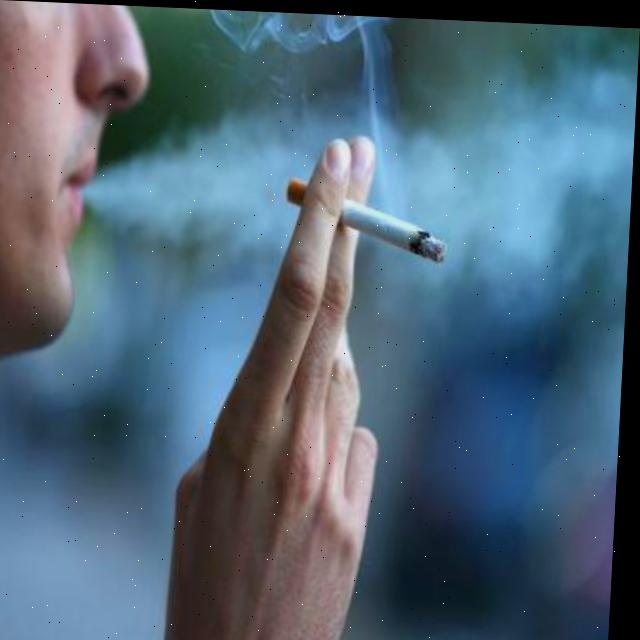cigarette: (285, 176, 452, 263)
